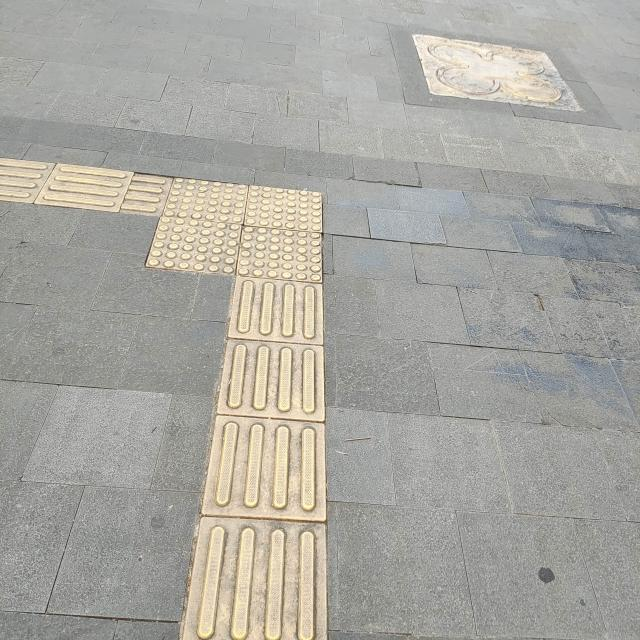kiri: (2, 124, 419, 368)
